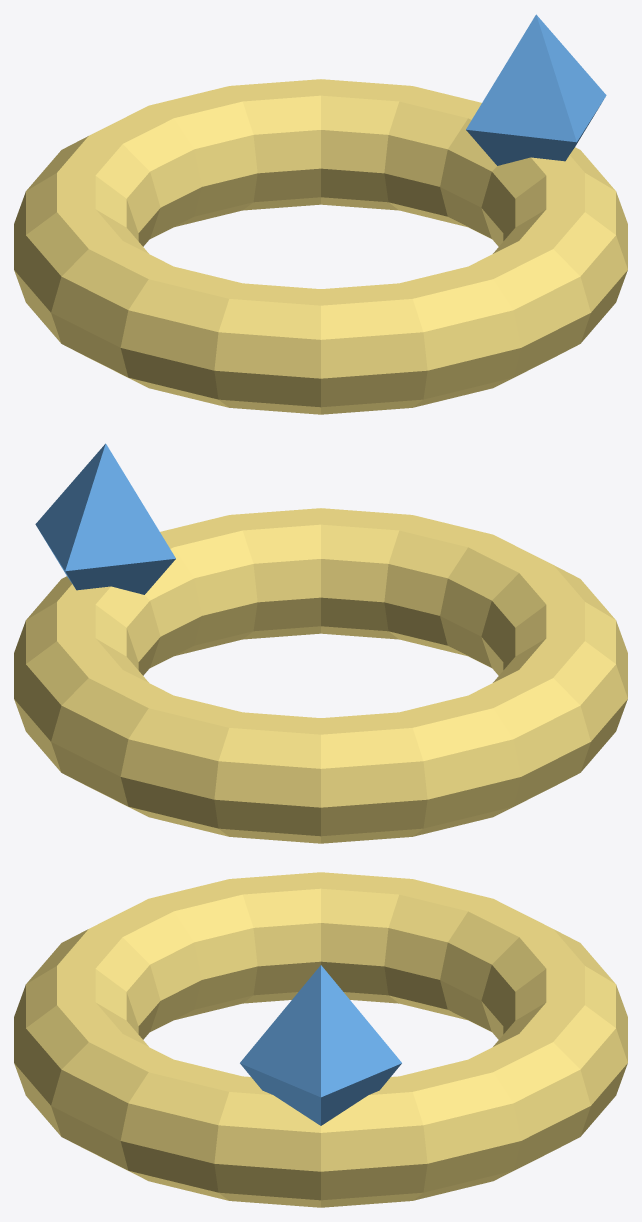
File: ring.glb
3 views of the same model, one above another, from view 1: azimuth 30°, elevation 25°; view 2: azimuth 150°, elevation 25°; view 3: azimuth 270°, elevation 25° (orthographic).
Bounding box in the file's own units: 1.42 × 0.5731 × 1.36.
